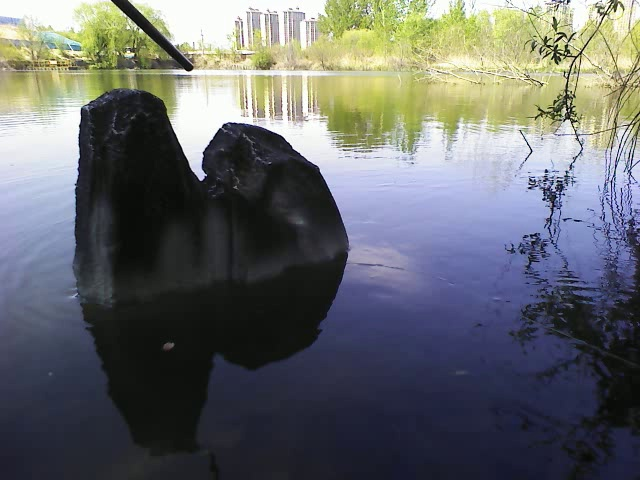rock: (68, 89, 355, 289)
